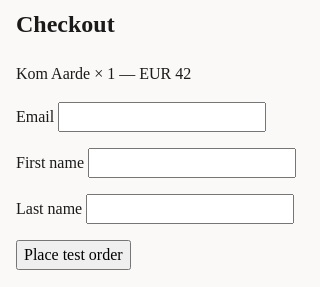
Cart/Checkout blocks (P13) › CheckoutShell place-order shows orderId + clientSecret
The width and height of the screenshot is (320, 287).
Expected: the list item "Kom Aarde × 1 — EUR 42" is shown, [16, 65, 191, 82]
Type "ada@example.com" into the field labelled "Email" at (162, 117), box [58, 102, 266, 132]
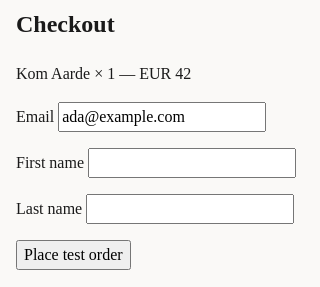
Click the button "Place test order" at (73, 255), box [16, 240, 131, 270]
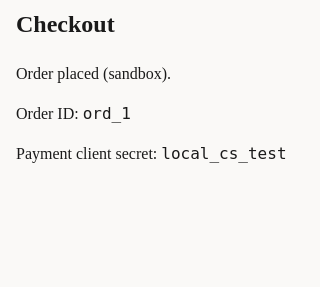
Expected: the text "Order ID: ord_1" is shown, [16, 104, 131, 123]
Expected: the text "ord_1" is shown, [83, 104, 131, 123]
Expected: the text "local_cs_test" is shown, [161, 144, 286, 163]
